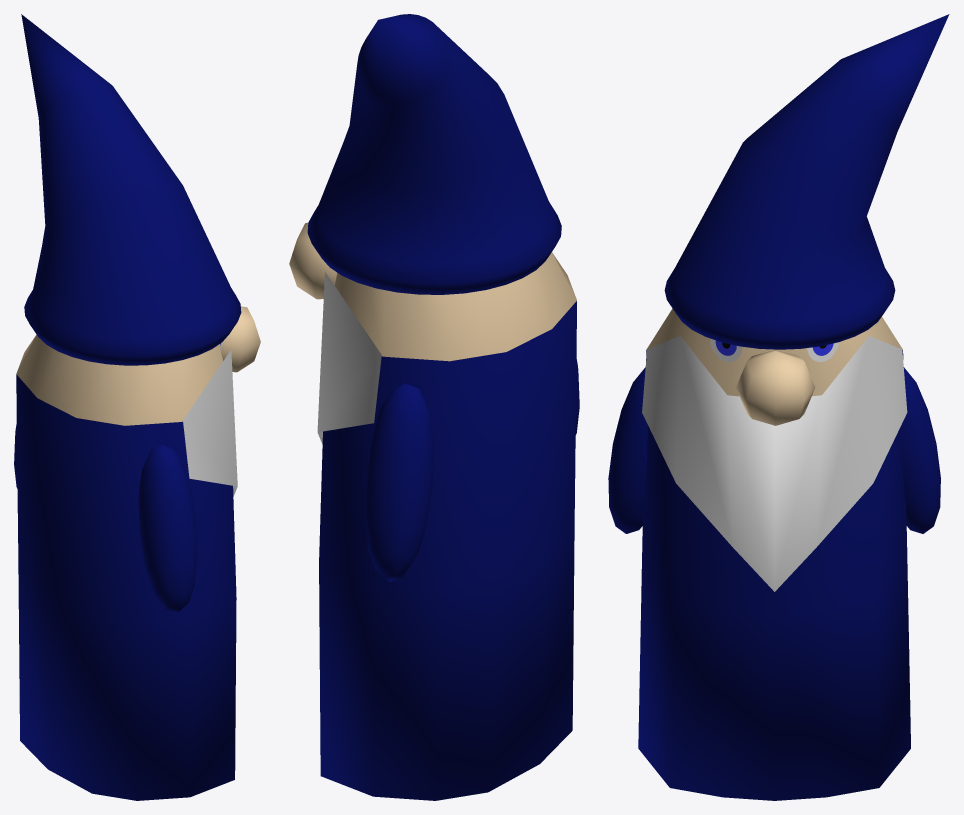
File: BlaNise.gltf
The picture shows the model from 3 angles, left to right: view 1: azimuth 30°, elevation 25°; view 2: azimuth 150°, elevation 25°; view 3: azimuth 270°, elevation 25°; orthographic projection. The views are drawn at different scales.
Visible parts, largest first — view 1: BlåNise; view 2: BlåNise; view 3: BlåNise.
Part boxes in pixels (bbox=[...]): BlåNise: bbox=[14, 14, 260, 800]; BlåNise: bbox=[289, 14, 579, 800]; BlåNise: bbox=[608, 14, 949, 800].
Size of the model in its own units: 5.67 by 17.11 by 7.21.
